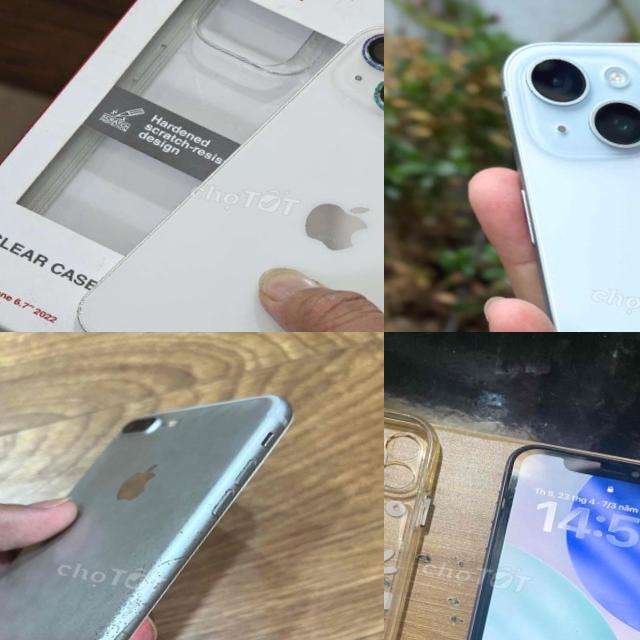gen_11: (435, 424, 640, 640)
gen_14: (66, 0, 384, 332)
gen_15: (426, 3, 640, 332)
gen_7_8: (0, 332, 302, 640)
scratch: (0, 487, 211, 640)
